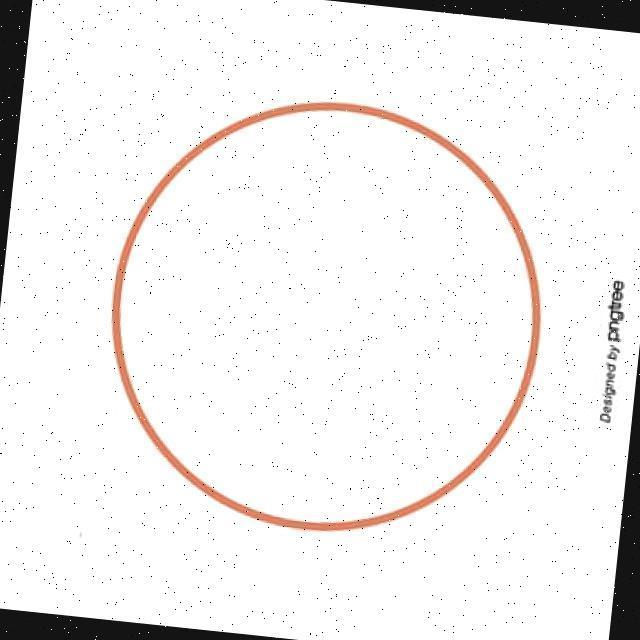Circle: (100, 95, 544, 538)
